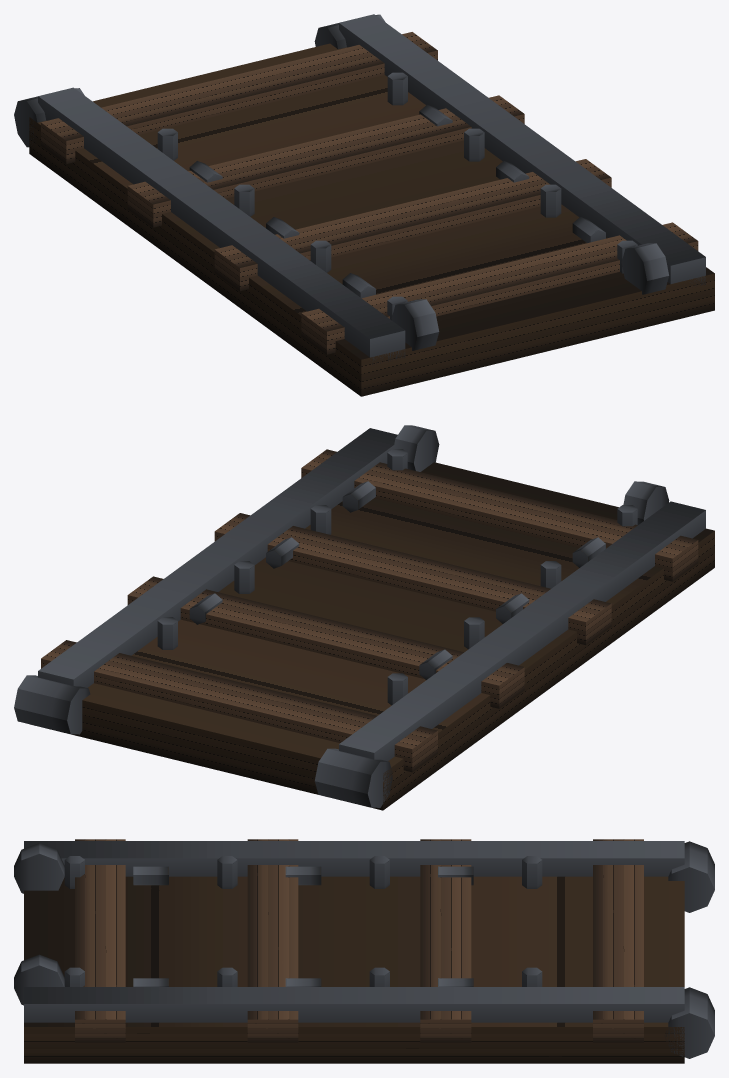
The model's file is drawbridge.gltf.
3 renders of one model, top to bottom at view 1: azimuth 30°, elevation 25°; view 2: azimuth 150°, elevation 25°; view 3: azimuth 270°, elevation 25°, orthographic.
Parts seen in each view (by area): view 1: drawbridge; view 2: drawbridge; view 3: drawbridge.
Part boxes in pixels (<box>): drawbridge: <box>14,14,714,396</box>; drawbridge: <box>14,425,714,810</box>; drawbridge: <box>14,839,714,1063</box>.
Size of the model in its own units: 0.84 by 0.16 by 1.38.
Materials: 1 (1 with a texture image).
